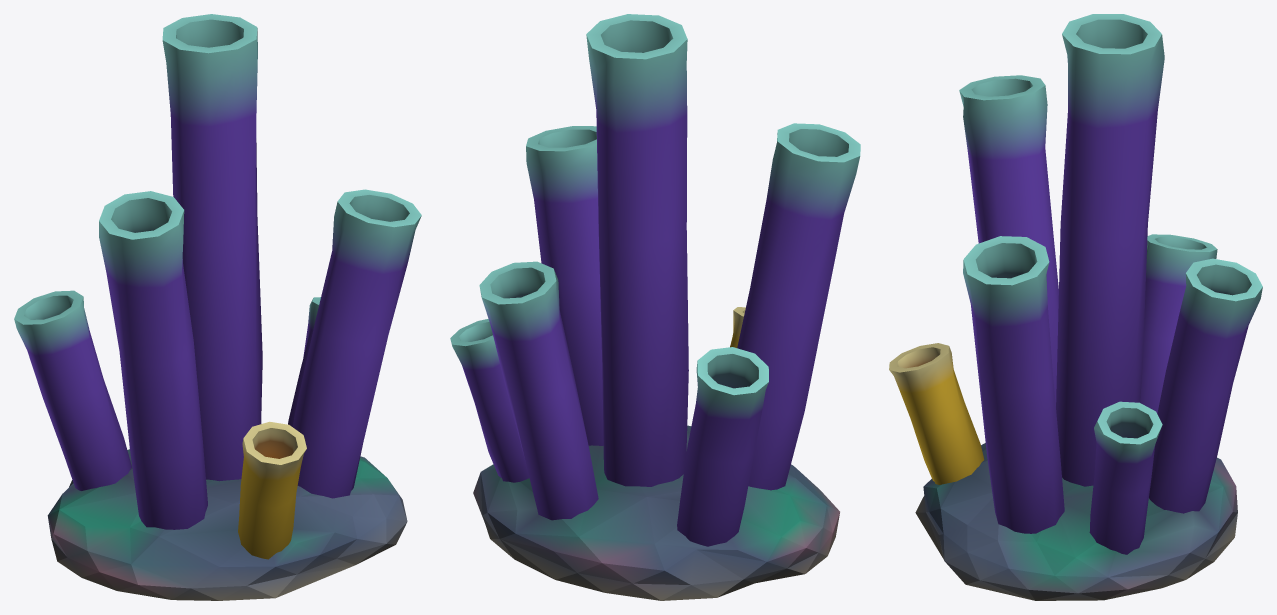
Rendered from tube_coral.glb.
3 views of the same model, side by side, from view 1: azimuth 30°, elevation 25°; view 2: azimuth 150°, elevation 25°; view 3: azimuth 270°, elevation 25° (orthographic). The views are drawn at different scales.
Visible parts, largest first — view 1: tube_coral; view 2: tube_coral; view 3: tube_coral.
Boxes of the visible parts, left/top/right/bottom form: tube_coral: left=14, top=14, right=421, bottom=600; tube_coral: left=450, top=14, right=860, bottom=600; tube_coral: left=889, top=14, right=1262, bottom=600.
Size of the model in its own units: 0.9836 by 1.4 by 0.9571.
